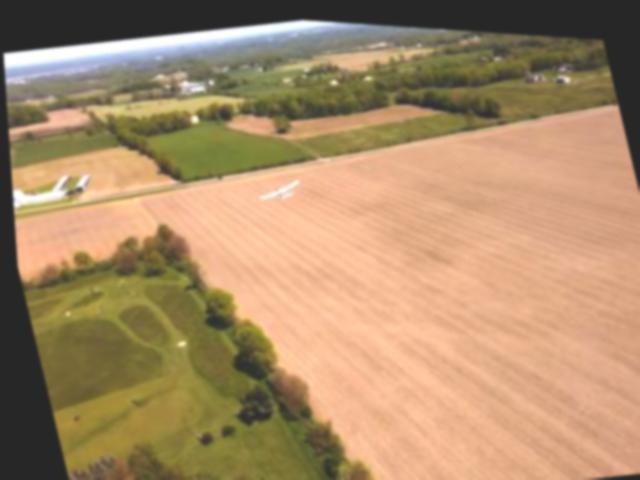uav: (245, 160, 309, 212)
